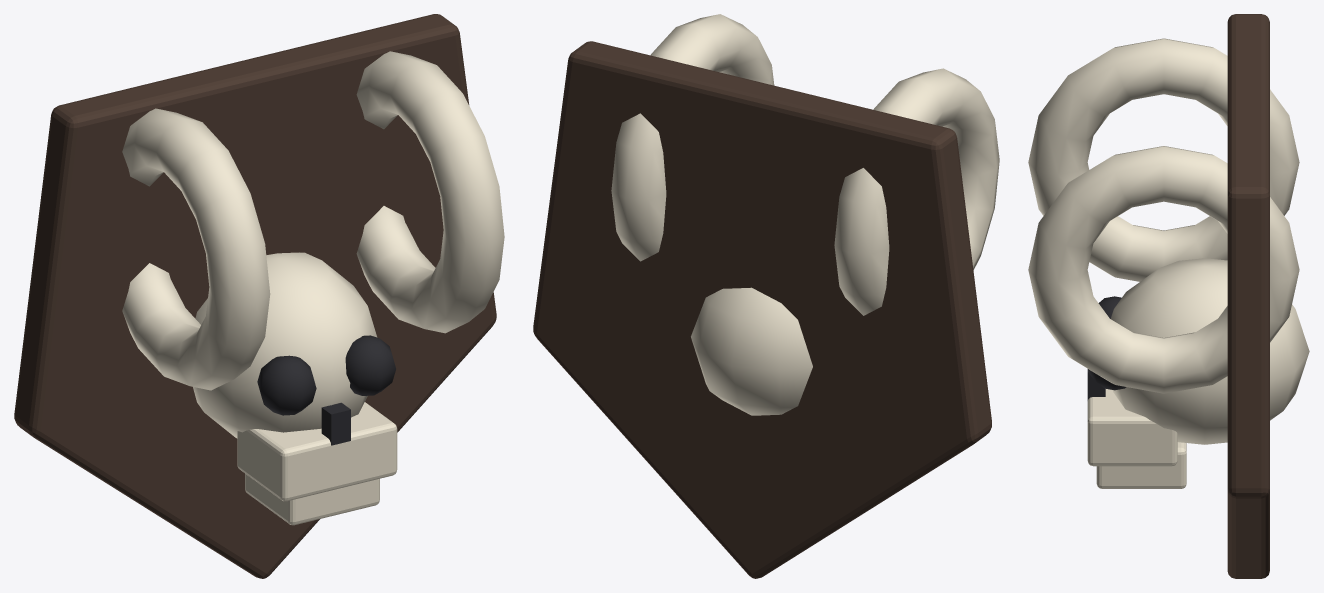
The model's file is skull_mount_ram.glb.
3 renders of one model, left to right at view 1: azimuth 30°, elevation 25°; view 2: azimuth 150°, elevation 25°; view 3: azimuth 270°, elevation 25°, orthographic. The views are drawn at different scales.
Visible parts, largest first — view 1: GD_skull_mount_ram__m0, GD_skull_mount_ram__m1, GD_skull_mount_ram__m2; view 2: GD_skull_mount_ram__m0, GD_skull_mount_ram__m1; view 3: GD_skull_mount_ram__m1, GD_skull_mount_ram__m0, GD_skull_mount_ram__m2.
Part boxes in pixels (x1,y1,x2,y2): GD_skull_mount_ram__m0: (14,14,496,578); GD_skull_mount_ram__m1: (122,51,504,525); GD_skull_mount_ram__m2: (257,335,395,445); GD_skull_mount_ram__m0: (533,41,991,578); GD_skull_mount_ram__m1: (611,14,999,415); GD_skull_mount_ram__m1: (1028,38,1309,488); GD_skull_mount_ram__m0: (1227,14,1269,578); GD_skull_mount_ram__m2: (1087,296,1126,400).
Bounding box in the file's own units: 0.4779 × 0.5048 × 0.2655.
